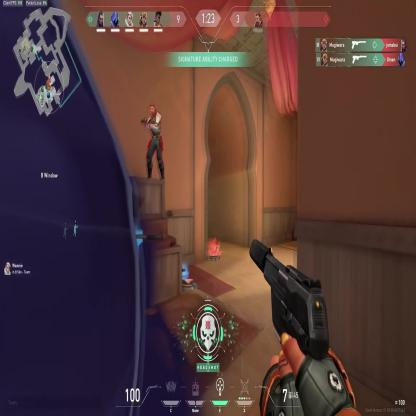enemy: (146, 103, 166, 180)
enemy_head: (149, 103, 156, 117)
